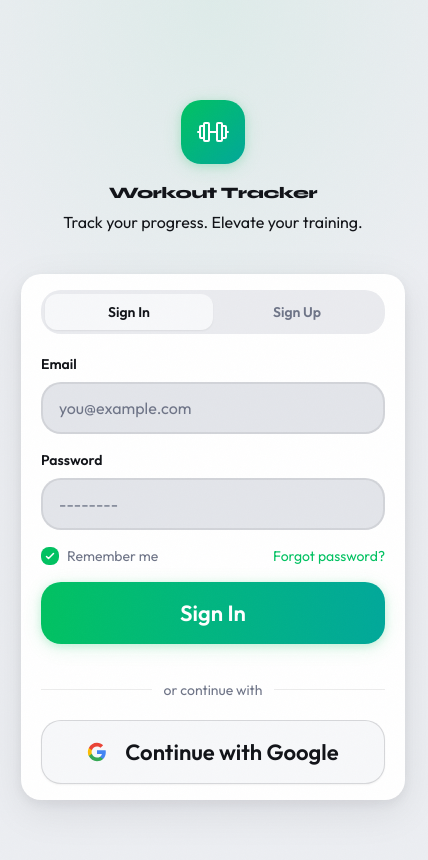
AuthPage › can switch to sign up tab showing extra fields (Display Name)
Click the button "Sign Up" at coordinates (297, 312), box [213, 294, 381, 330]
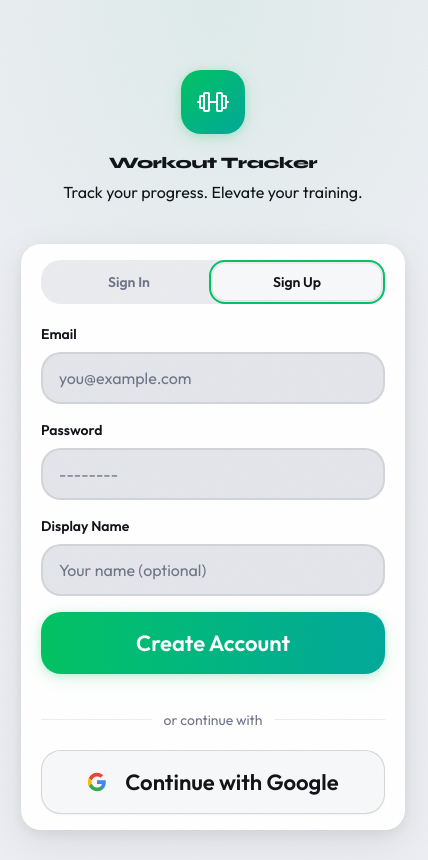
Expected: the text "Display Name" is shown, [41, 517, 129, 535]
Expected: the button "Create Account" is shown, [41, 612, 385, 674]
